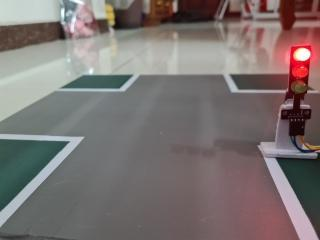red: (277, 41, 317, 108)
